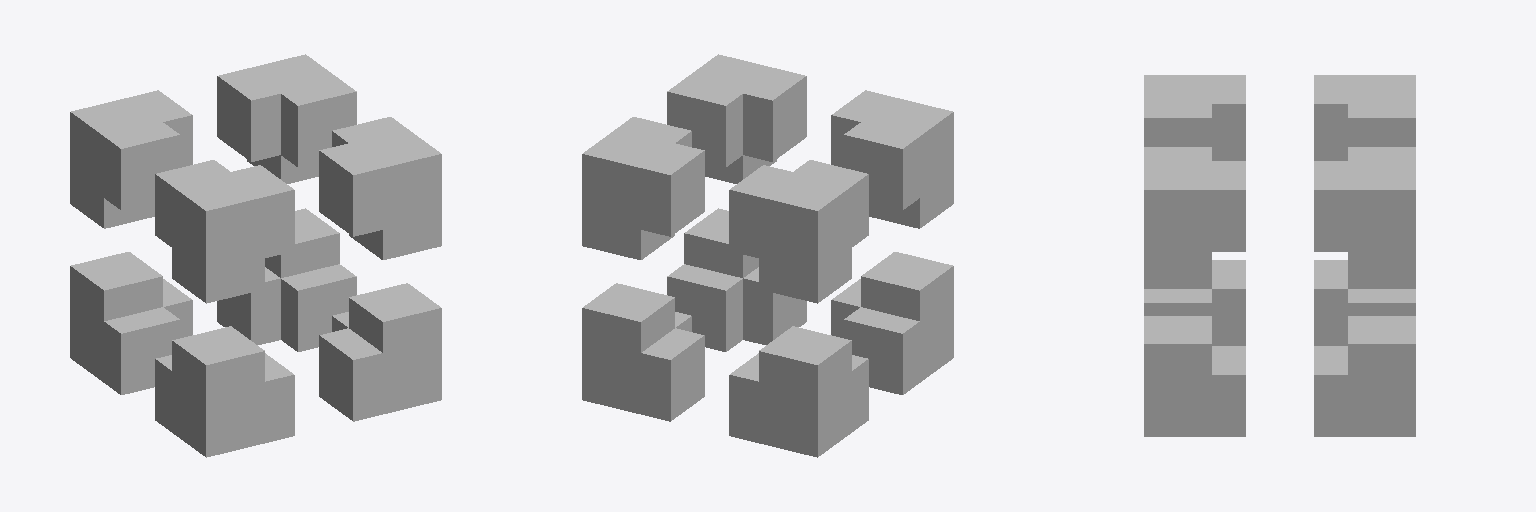
The model's file is selection.obj.
3 renders of one model, left to right at view 1: azimuth 30°, elevation 25°; view 2: azimuth 150°, elevation 25°; view 3: azimuth 270°, elevation 25°, orthographic.
Parts seen in each view (by area): view 1: Cube_Cube.004; view 2: Cube_Cube.004; view 3: Cube_Cube.004.
Part boxes in pixels (bbox=[...]): Cube_Cube.004: bbox=[70, 54, 441, 457]; Cube_Cube.004: bbox=[582, 54, 953, 457]; Cube_Cube.004: bbox=[1144, 75, 1415, 436].
Bounding box in the file's own units: 2 × 2 × 2.